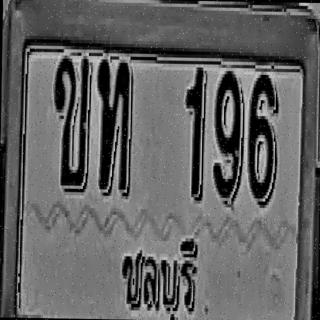A02: (52, 54, 90, 190)
A23: (96, 58, 132, 194)
N01: (183, 64, 206, 200)
N06: (247, 71, 278, 205)
N09: (212, 69, 242, 203)
P13: (114, 228, 201, 320)
